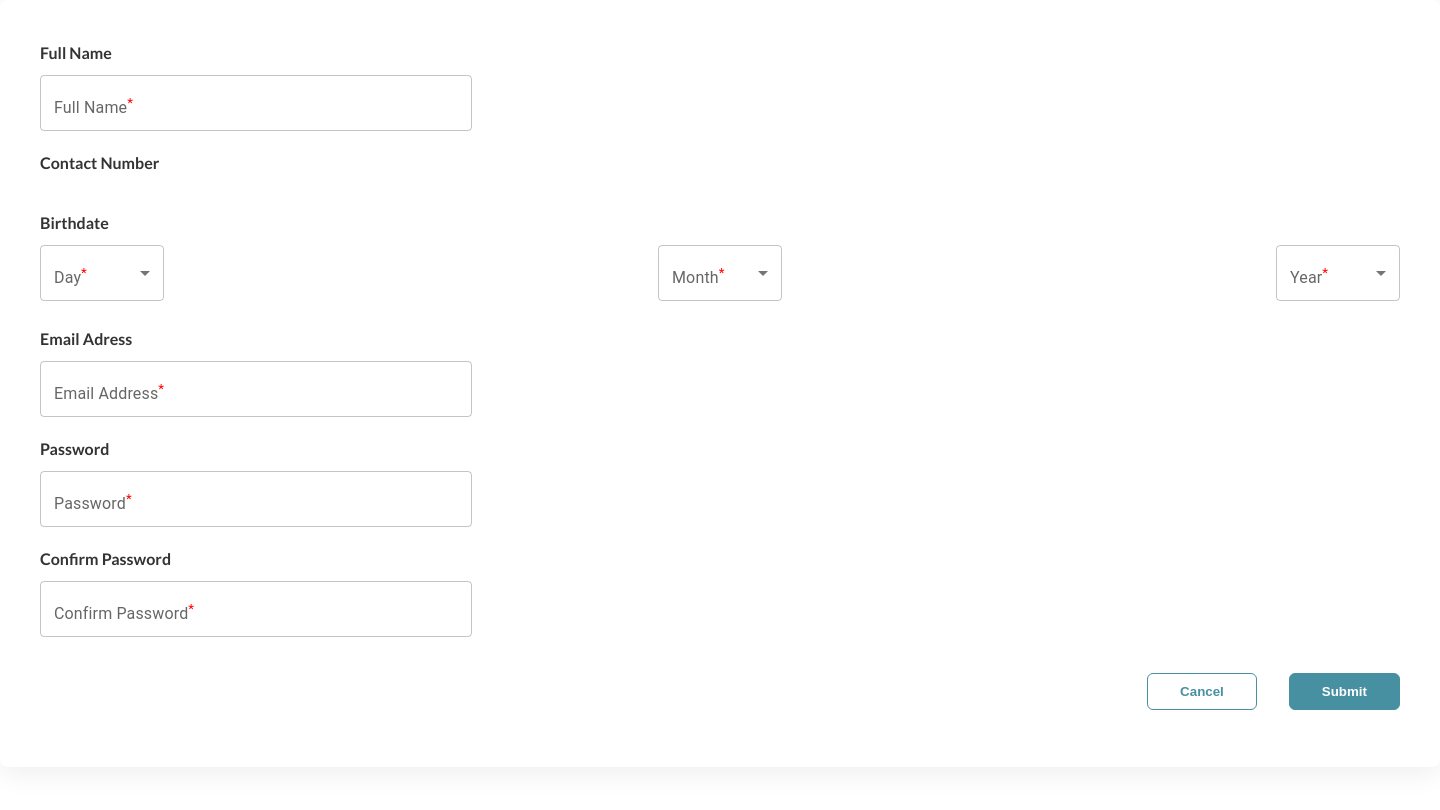
Test: Test create user form: › test Full Name
This screenshot has width=1440, height=810.
// change input field
Type "some1ncorrectin9ut" into the field labelled "Full Name*" at (256, 103), box [40,75,472,131]
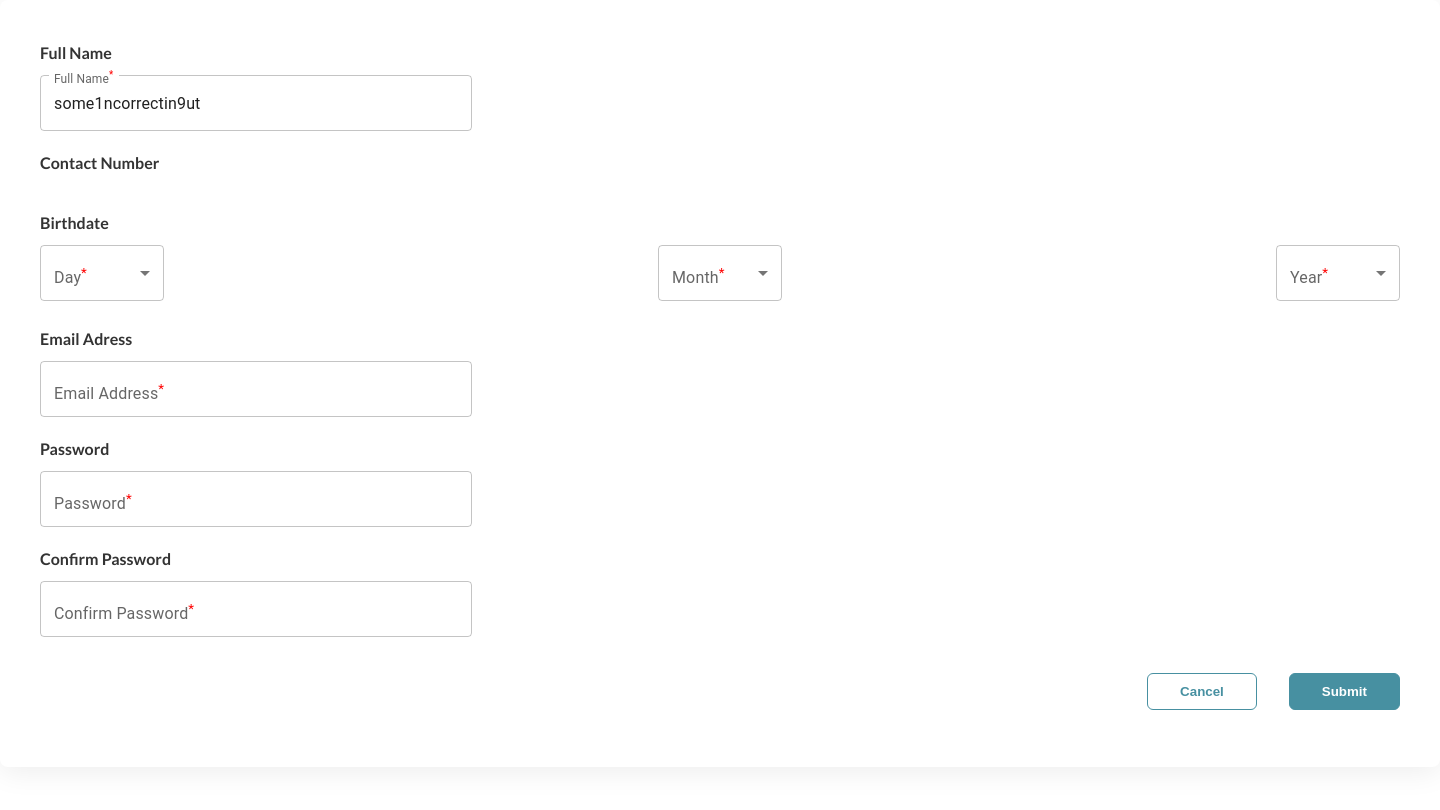
Expected: the text "Full name must not contain symbols." is not shown
// click on submit
Click the button "Submit" at (1344, 692), box [1289,673,1400,710]
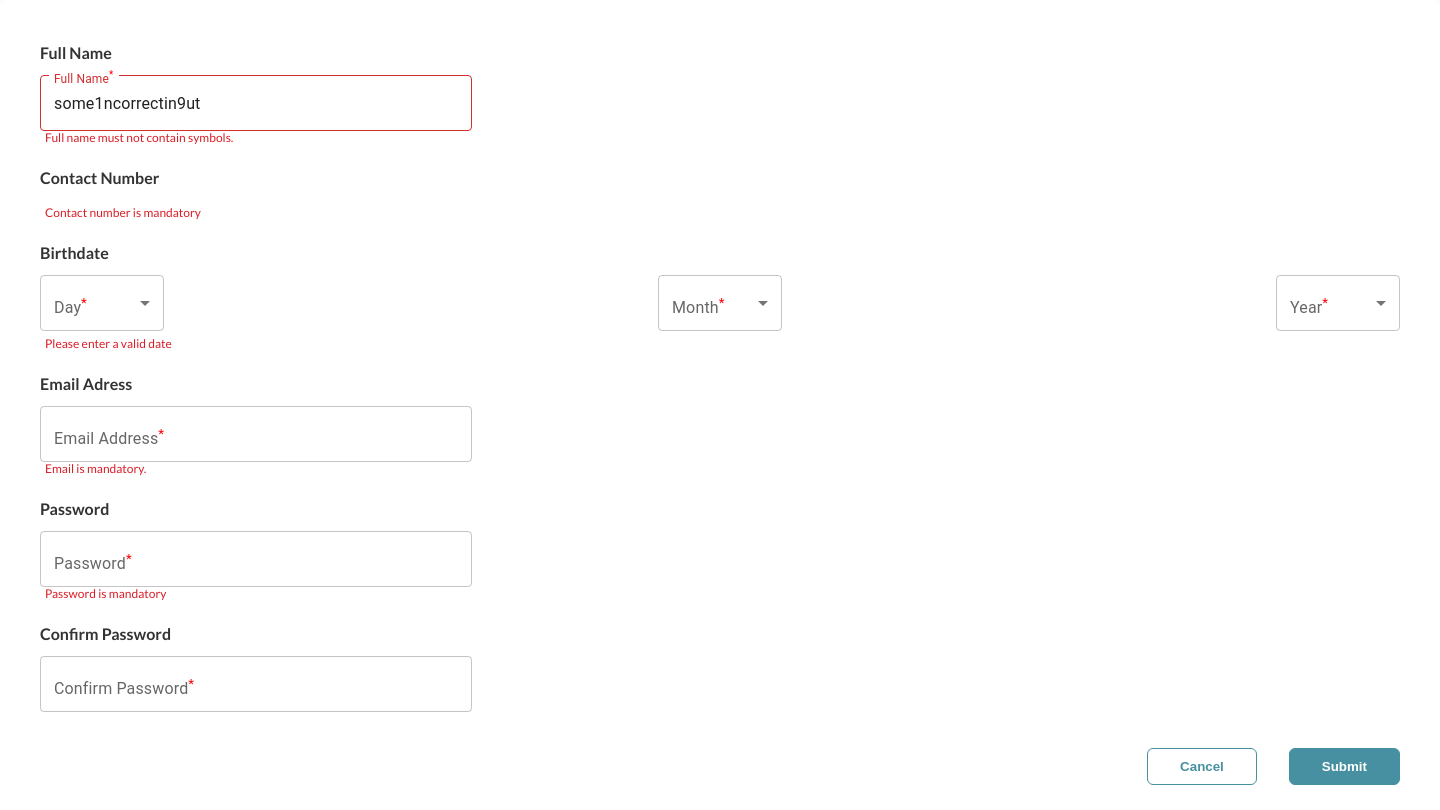
Result: the text "Full name must not contain symbols." is shown at [45,130,233,145]
// required field test
Clear the field labelled "Full Name*" at (256, 103), box [40,75,472,131]
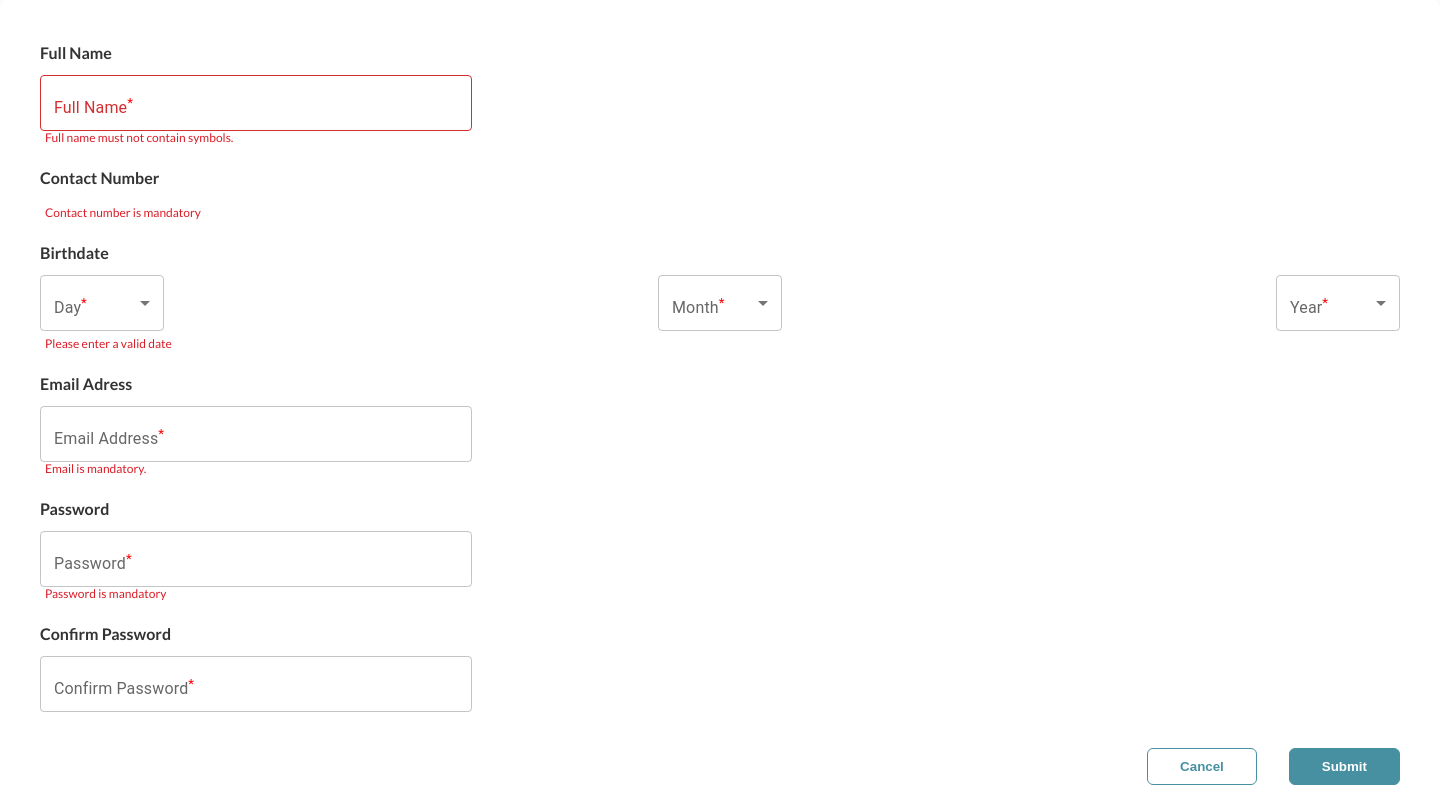
// click on submit
Click the button "Submit" at (1344, 766), box [1289,748,1400,785]
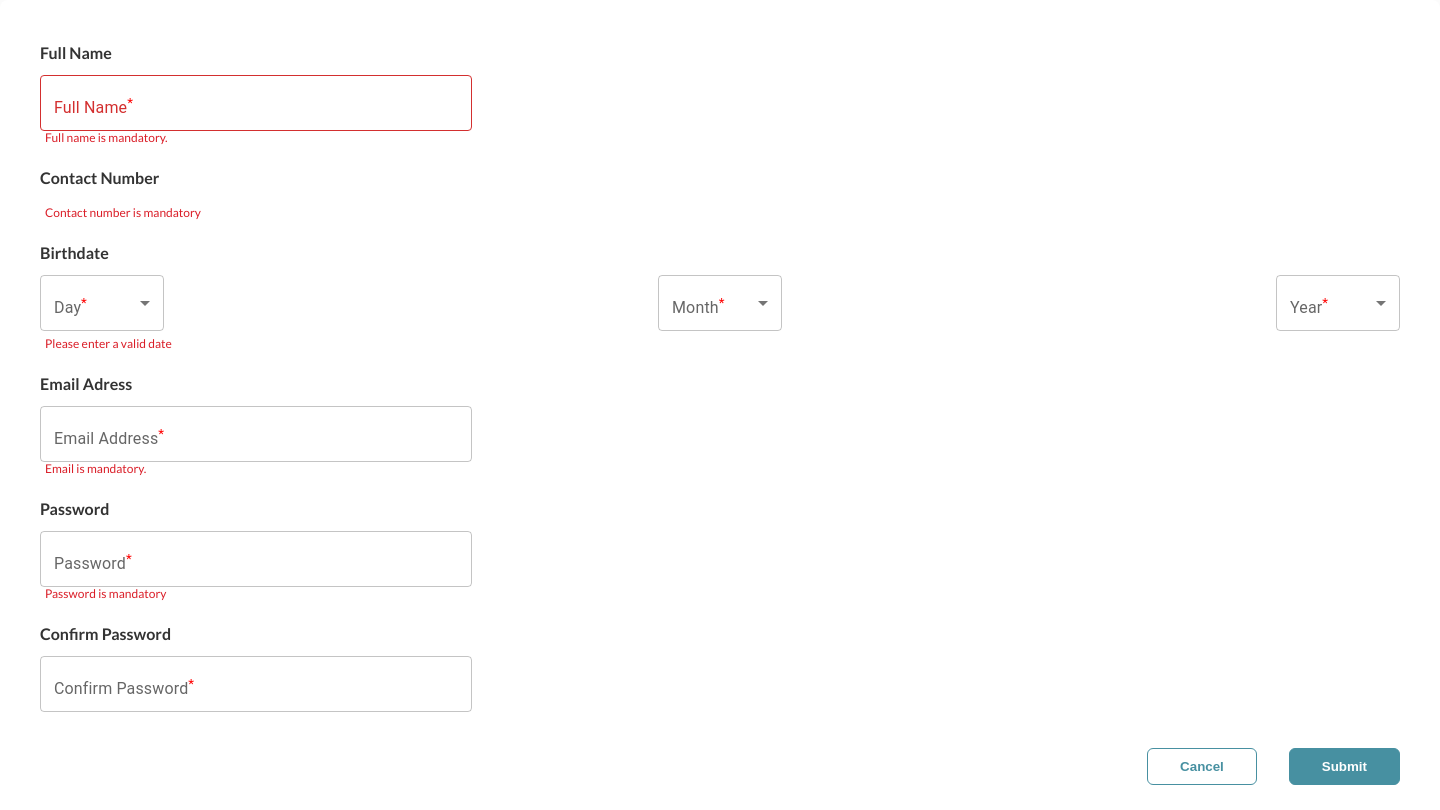
Result: the text "Full name is mandatory." is shown at [45,130,168,145]
